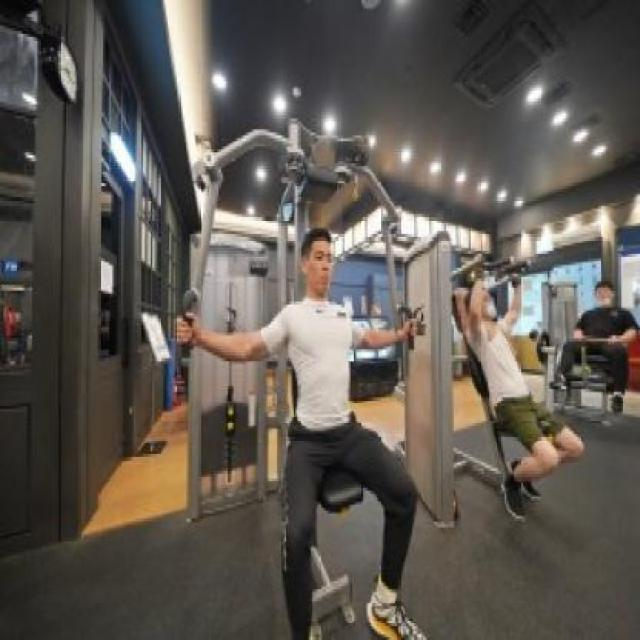chest fly machine: (166, 109, 446, 640)
